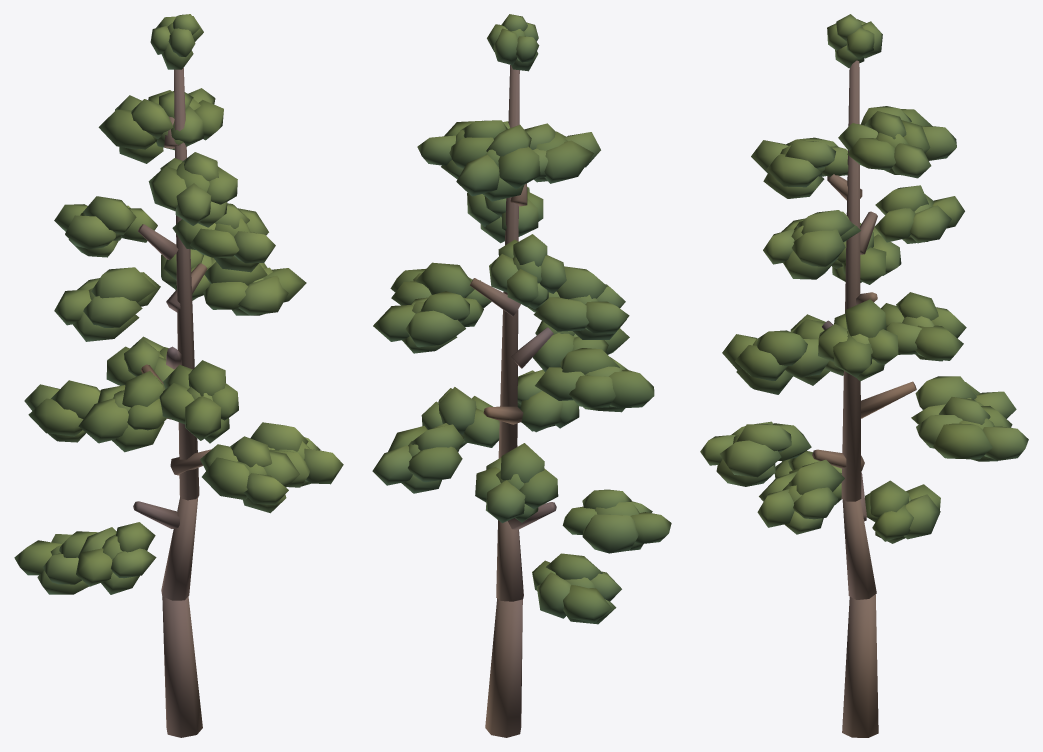
File: HK_Tree_Cedar.lod.glb
3 views of the same model, side by side, from view 1: azimuth 30°, elevation 25°; view 2: azimuth 150°, elevation 25°; view 3: azimuth 270°, elevation 25° (orthographic).
Visible parts, largest first — view 1: HK_Tree_Cedar; view 2: HK_Tree_Cedar; view 3: HK_Tree_Cedar.
Part boxes in pixels (x1,y1,x2,y2): HK_Tree_Cedar: (14, 14, 343, 737); HK_Tree_Cedar: (372, 14, 671, 737); HK_Tree_Cedar: (700, 14, 1028, 737).
Size of the model in its own units: 4.06 by 11.05 by 4.62.
